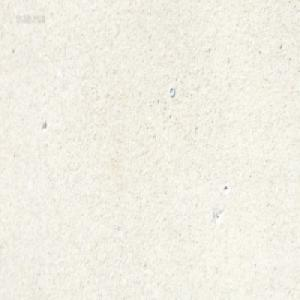Washer: (169, 87, 175, 98)
